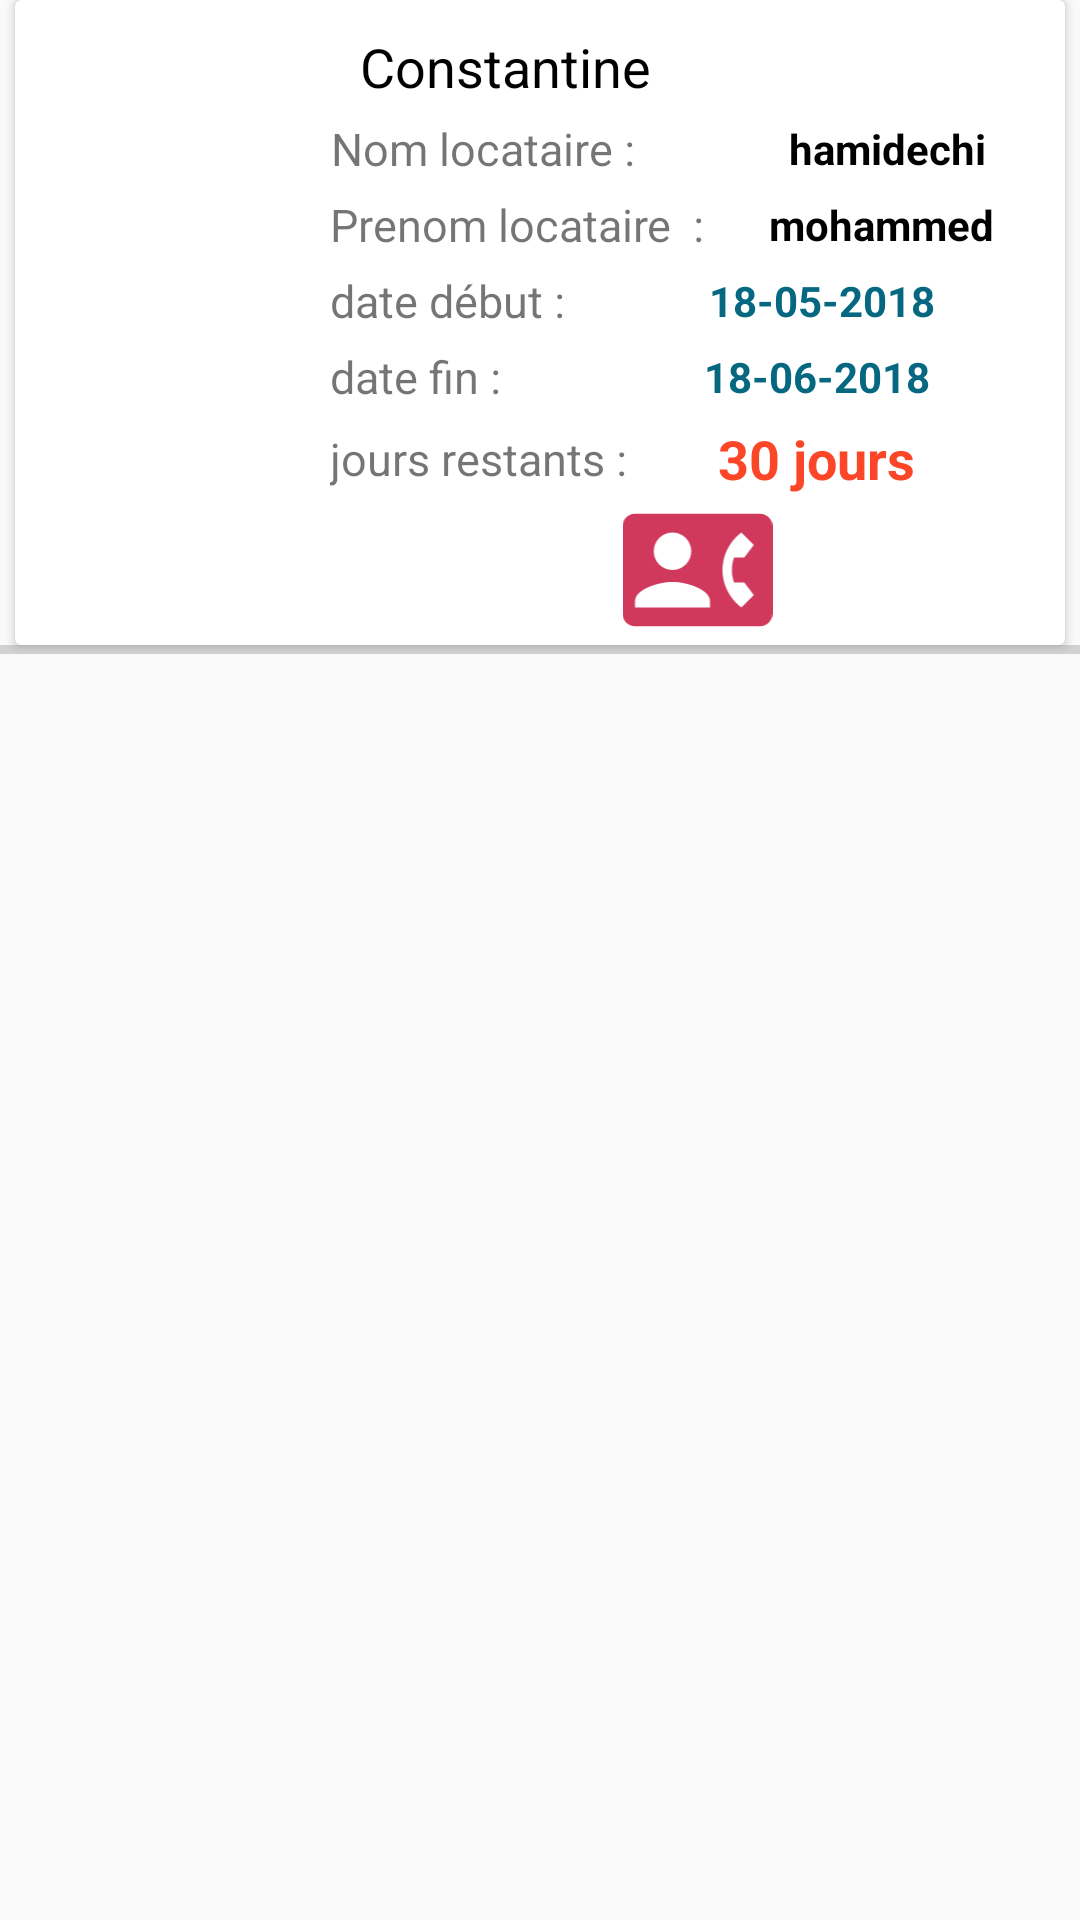

Screen size 1080 × 1920. Icon name, then its center in pixels as (x=x, y=y):
contact phone: (x=698, y=570)
